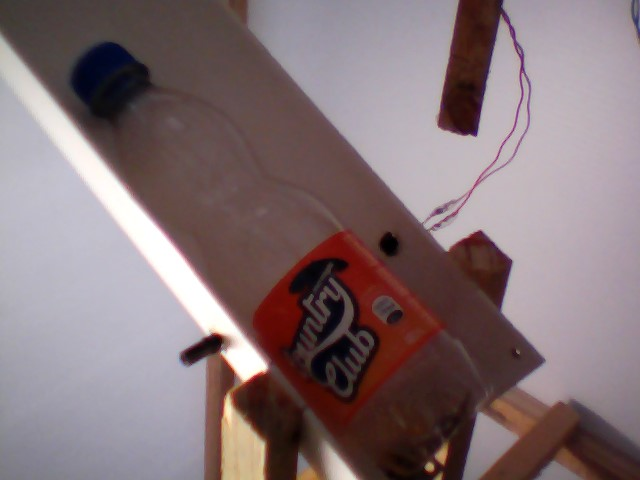plastico: (67, 35, 501, 480)
